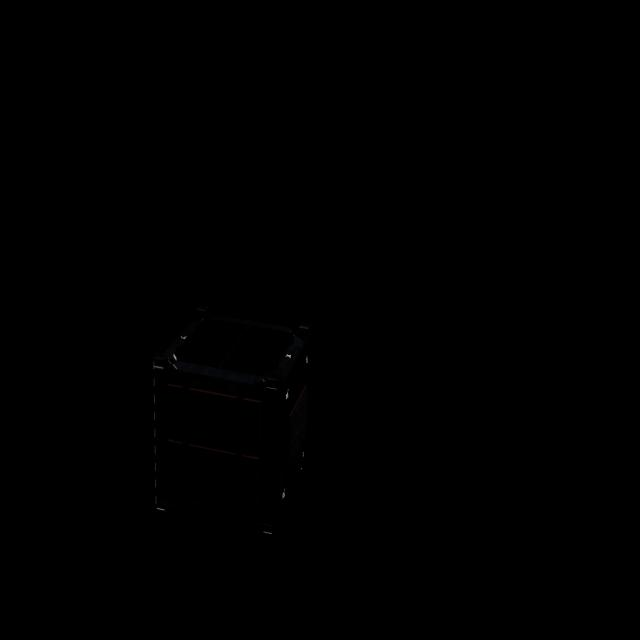satellite: (146, 306, 323, 556)
